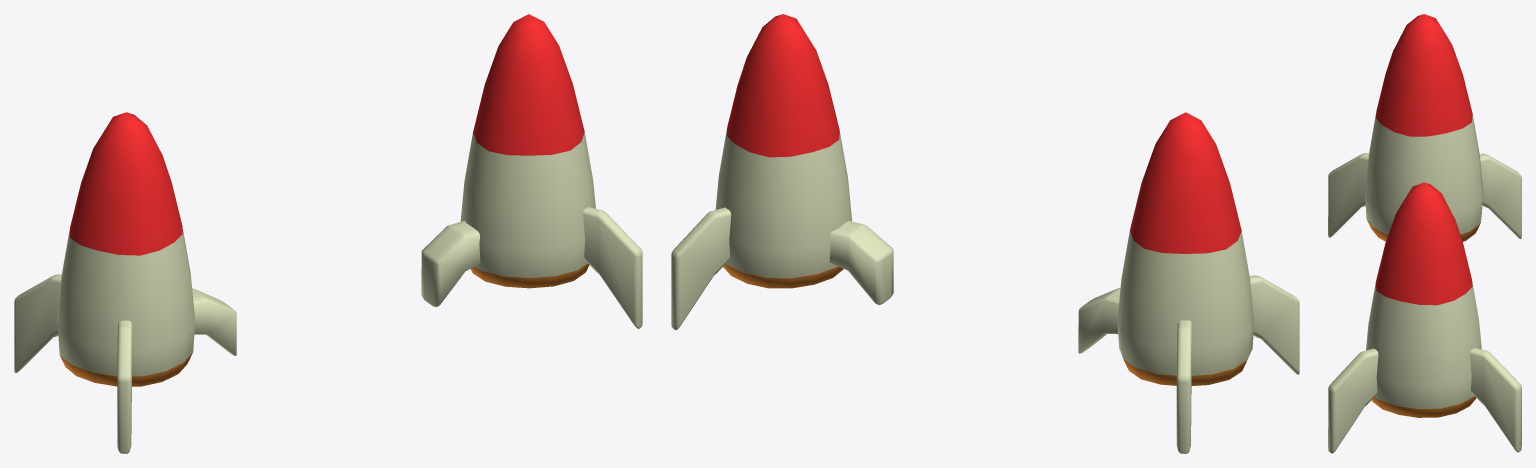
Rendered from Rockets_Teruck_Modified.fbx.
The picture shows the model from 3 angles, left to right: view 1: azimuth 30°, elevation 25°; view 2: azimuth 150°, elevation 25°; view 3: azimuth 270°, elevation 25°; orthographic projection. The views are drawn at different scales.
Visible parts, largest first — view 1: Rockets_Truck_Modified; view 2: Rockets_Truck_Modified; view 3: Rockets_Truck_Modified.
Part boxes in pixels (x1,y1,x2,y2): Rockets_Truck_Modified: (14, 14, 642, 453); Rockets_Truck_Modified: (671, 14, 1299, 453); Rockets_Truck_Modified: (1328, 14, 1521, 453).
Size of the model in its own units: 2.85 by 1.5 by 1.06.
